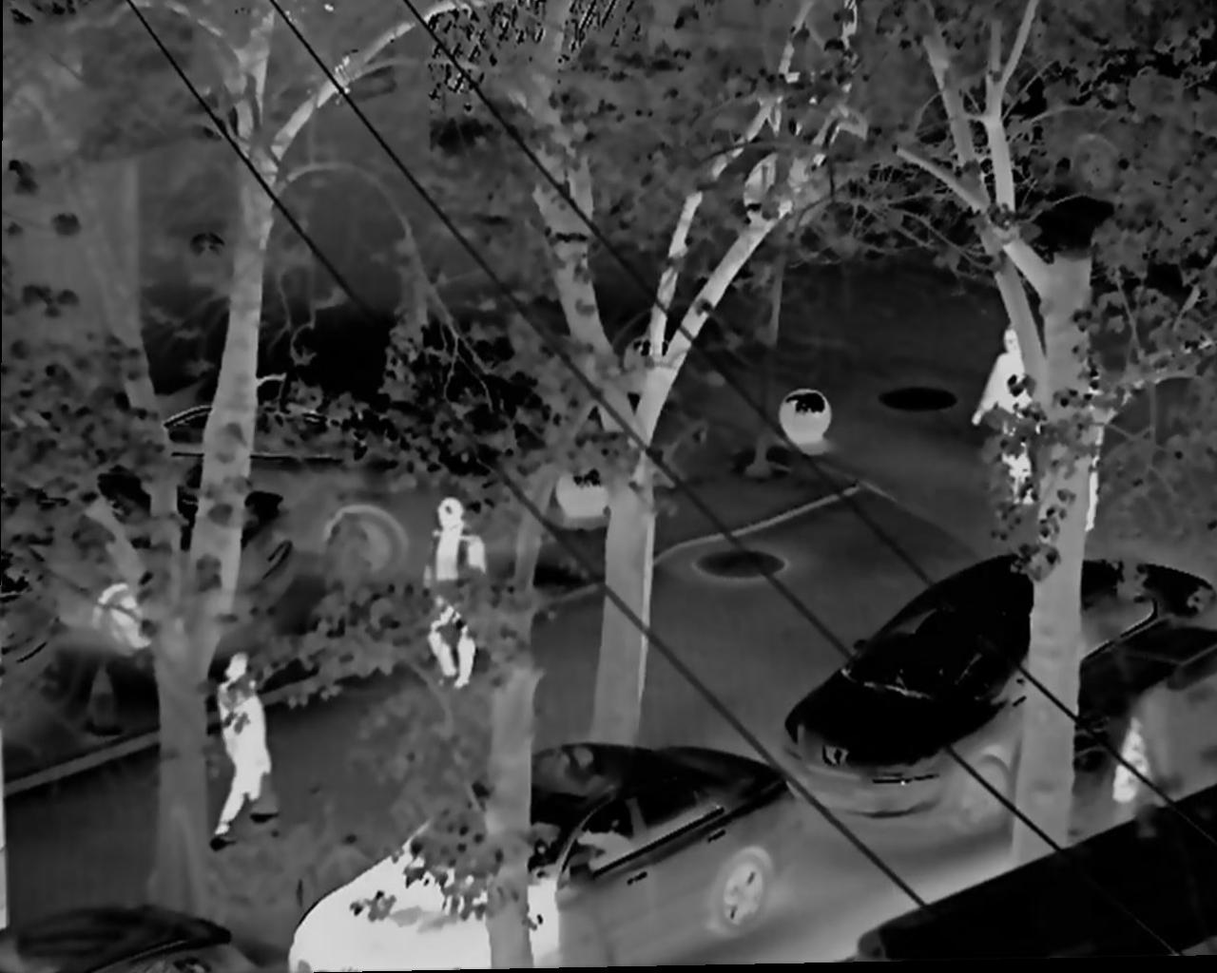person: (417, 494, 508, 700), (210, 653, 293, 851), (975, 315, 1047, 531), (1050, 359, 1112, 572)
